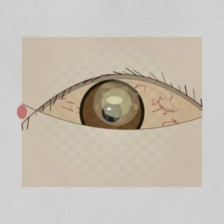corneal_ulcer: (92, 84, 141, 122)
